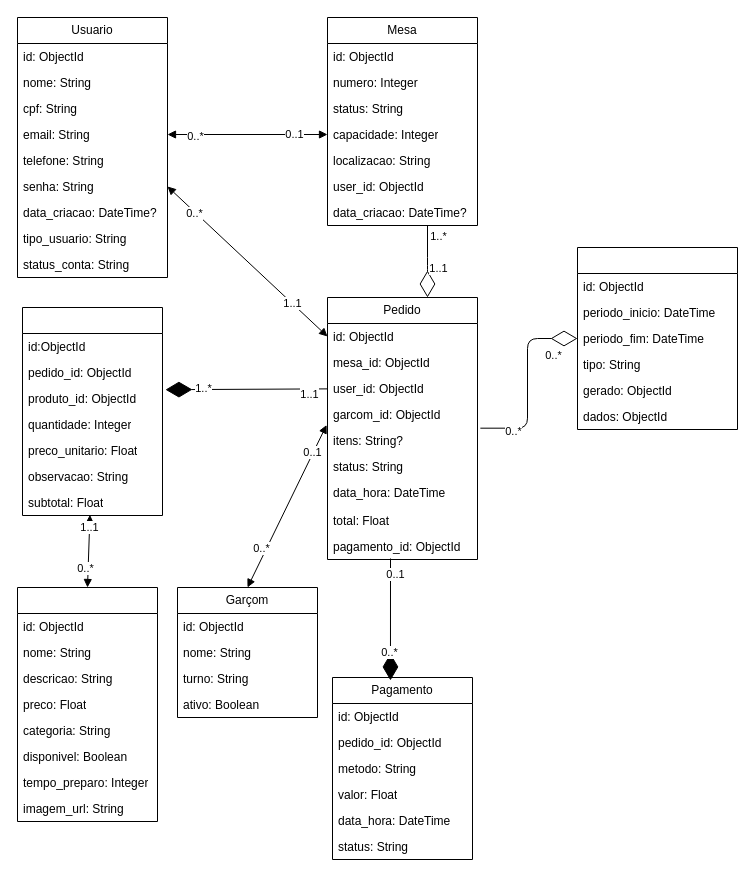
Image size: 755x880. Some labels were removed from this diagram. Here are the shapes that lost their labels. From the top down, the box of each, then its label:
(576, 246, 738, 430): Relatório
(22, 306, 162, 516): ItemPedido
(16, 586, 158, 822): Produto
